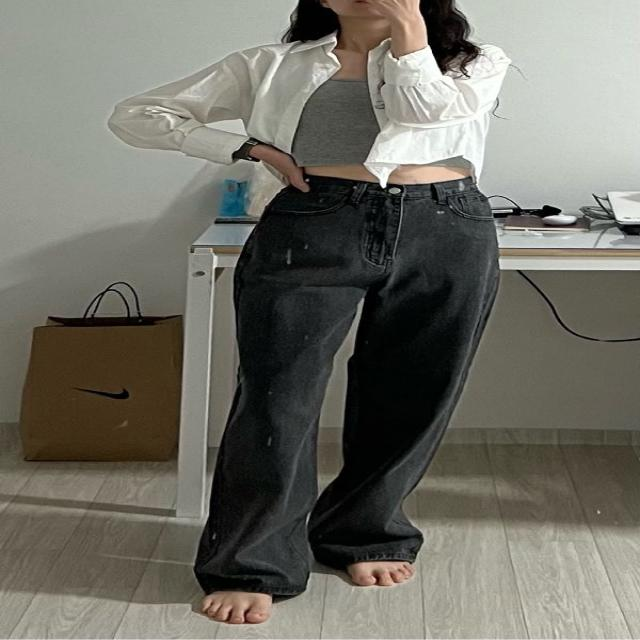denimpants: (198, 172, 500, 594)
shirt: (105, 28, 505, 184)
